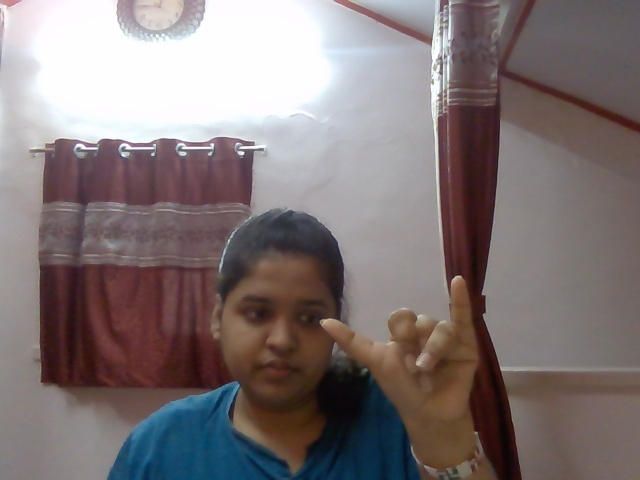y: (309, 275, 515, 415)
